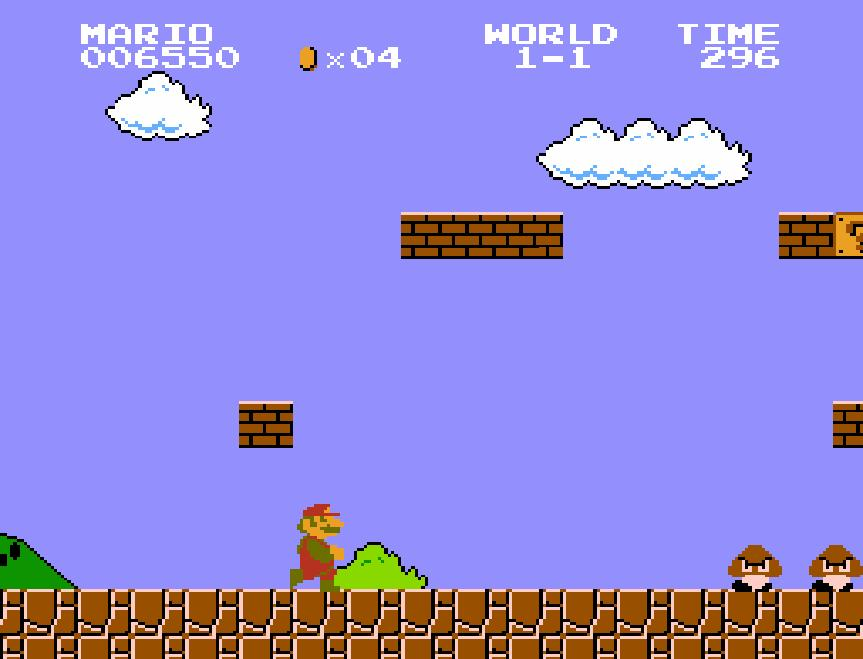big_mario: (288, 496, 346, 594)
